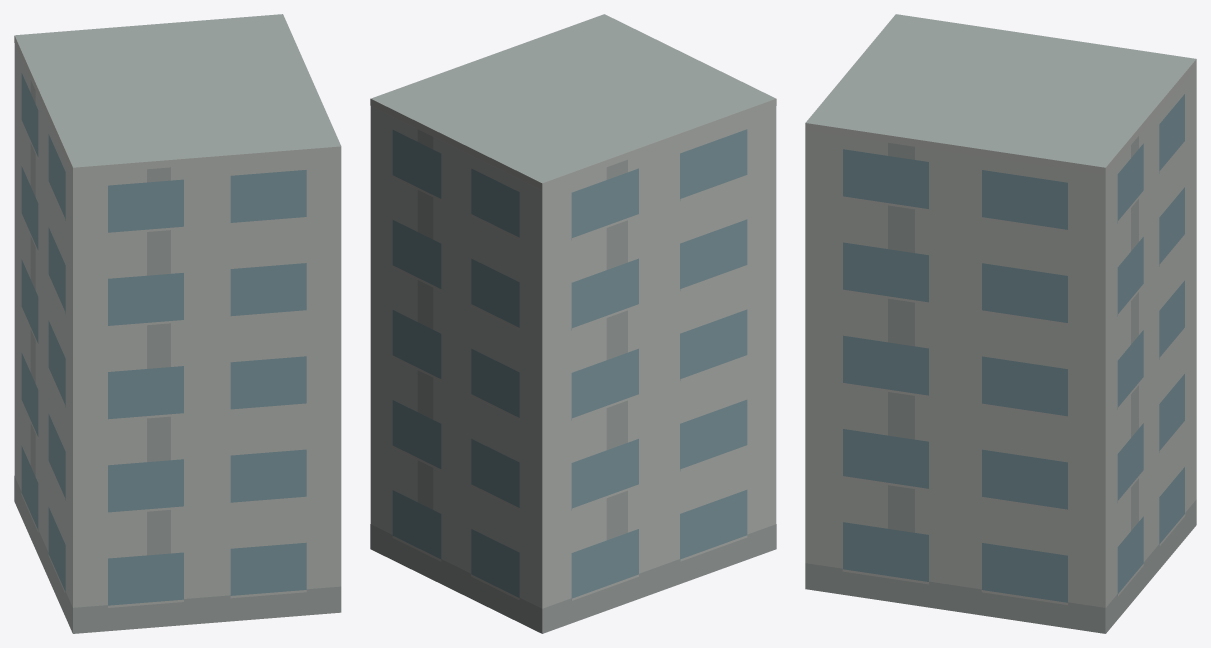
File: residential-63ff9816-c880-48fa-9a7e-d36acbafef01.glb
3 renders of one model, left to right at view 1: azimuth 30°, elevation 25°; view 2: azimuth 150°, elevation 25°; view 3: azimuth 270°, elevation 25°, orthographic. The views are drawn at different scales.
Parts seen in each view (by area): view 1: residential-63ff9816-c880-48fa-9a7e-d36acbafef01.tmp; view 2: residential-63ff9816-c880-48fa-9a7e-d36acbafef01.tmp; view 3: residential-63ff9816-c880-48fa-9a7e-d36acbafef01.tmp.
Boxes of the visible parts, x1=… form: residential-63ff9816-c880-48fa-9a7e-d36acbafef01.tmp: x1=14, y1=14, x2=341, y2=633; residential-63ff9816-c880-48fa-9a7e-d36acbafef01.tmp: x1=370, y1=14, x2=776, y2=633; residential-63ff9816-c880-48fa-9a7e-d36acbafef01.tmp: x1=805, y1=14, x2=1196, y2=633.
Size of the model in its own units: 10.79 by 15.25 by 11.61.
